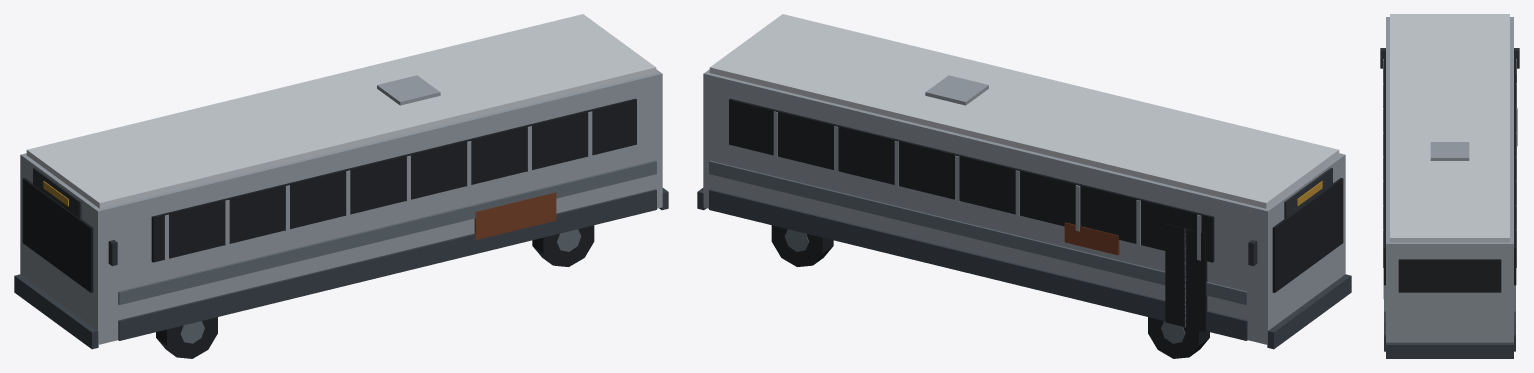
Rendered from env_bus.fbx.
The picture shows the model from 3 angles, left to right: view 1: azimuth 30°, elevation 25°; view 2: azimuth 150°, elevation 25°; view 3: azimuth 270°, elevation 25°; orthographic projection. The views are drawn at different scales.
Visible parts, largest first — view 1: env_bus; view 2: env_bus; view 3: env_bus.
Part boxes in pixels (box(x1,y1,x2,y2)): env_bus: box(14, 14, 668, 358); env_bus: box(697, 14, 1351, 358); env_bus: box(1380, 14, 1519, 358).
Bounding box in the file's own units: 4290 × 1275 × 1090.
